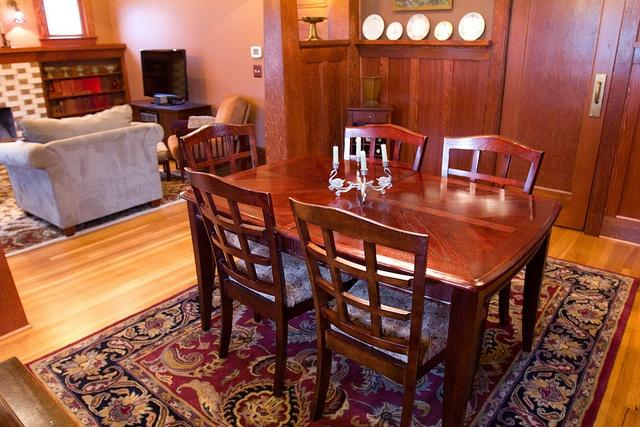AIO PC-Monitor-TV: (139, 47, 189, 106)
Kursi: (287, 195, 450, 426), (183, 166, 315, 397)
Meja: (177, 152, 566, 352)
